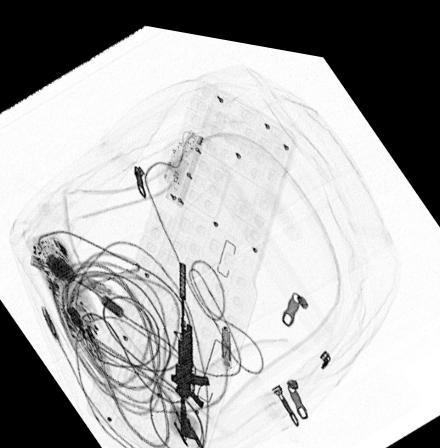Gun: (169, 253, 209, 440)
